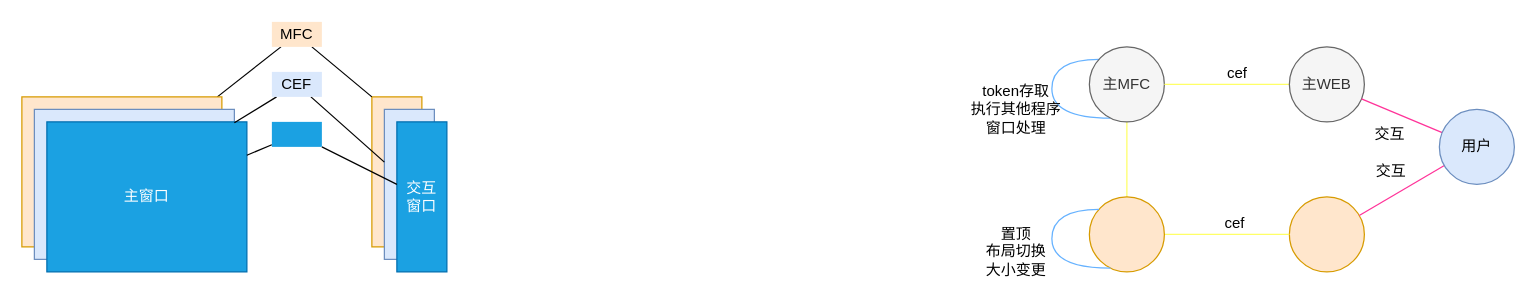
Some shapes in this 1536 by 300 pixel diagram are drawn without their labels. Each missing label, with the centre of its shape:
"WEB" goes at point 296,133.
"交互MFC" goes at point 1126,234.
"交互WEB" goes at point 1326,234.
